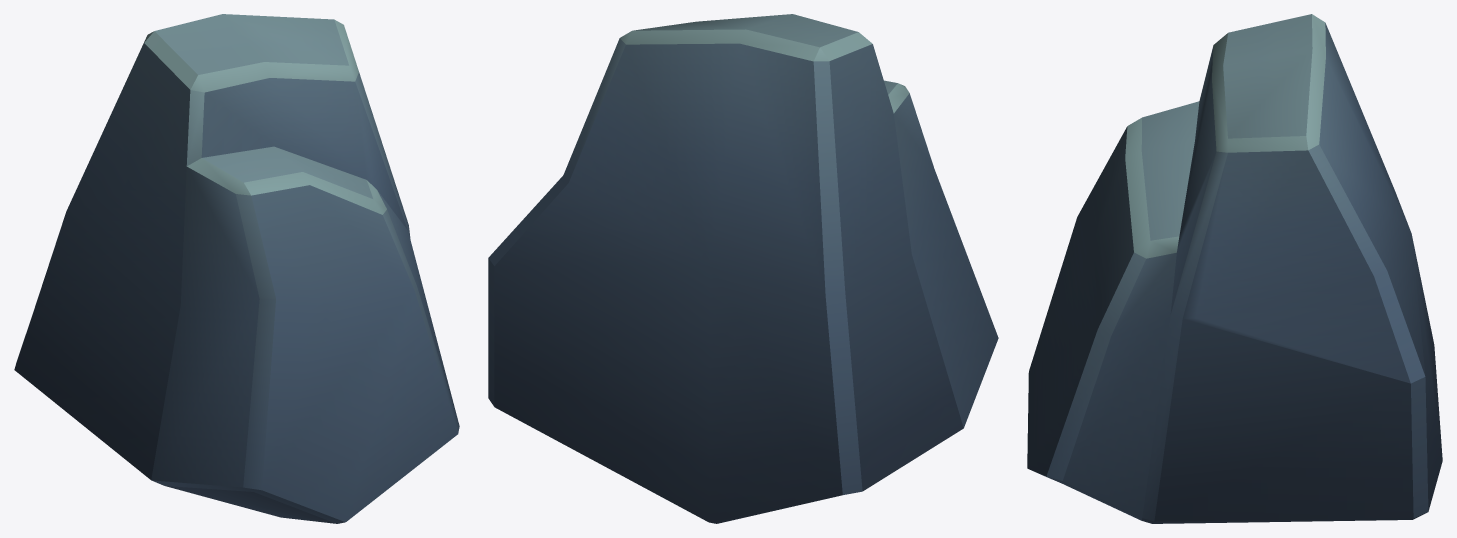
The model's file is rock_medium_1.glb.
3 renders of one model, left to right at view 1: azimuth 30°, elevation 25°; view 2: azimuth 150°, elevation 25°; view 3: azimuth 270°, elevation 25°, orthographic. The views are drawn at different scales.
Parts seen in each view (by area): view 1: rock_medium_1; view 2: rock_medium_1; view 3: rock_medium_1.
Boxes of the visible parts, x1,y1,x2,y2 form: rock_medium_1: (14, 14, 459, 523); rock_medium_1: (488, 14, 998, 523); rock_medium_1: (1027, 14, 1442, 523).
Bounding box in the file's own units: 2.64 × 3.19 × 2.58.
Materials: 1 (1 with a texture image).
